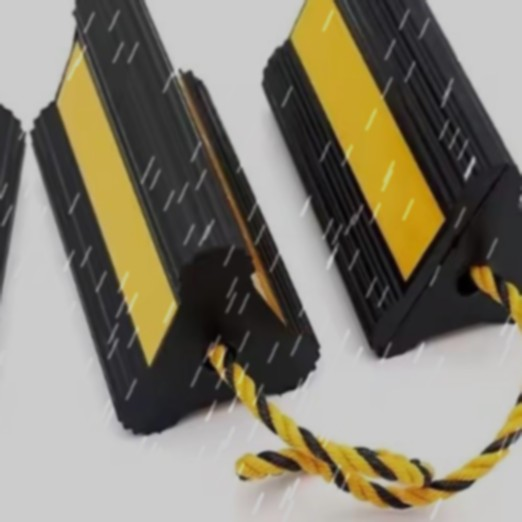chock: (10, 0, 329, 447), (250, 0, 522, 368)
